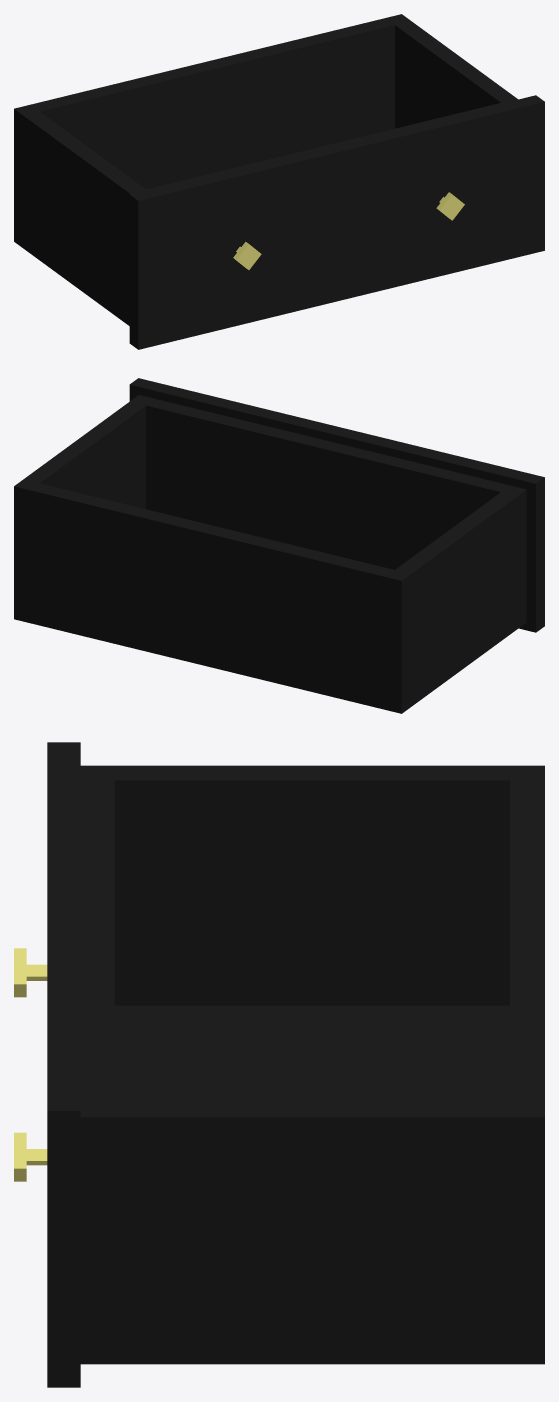
The model's file is Itr_Wardrobe3_Drawer_03.FBX.
3 renders of one model, top to bottom at view 1: azimuth 30°, elevation 25°; view 2: azimuth 150°, elevation 25°; view 3: azimuth 270°, elevation 25°, orthographic. The views are drawn at different scales.
Parts seen in each view (by area): view 1: Itr_Wardrobe3_Drawer_03; view 2: Itr_Wardrobe3_Drawer_03; view 3: Itr_Wardrobe3_Drawer_03.
Boxes of the visible parts, x1=… form: Itr_Wardrobe3_Drawer_03: x1=14, y1=14, x2=544, y2=349; Itr_Wardrobe3_Drawer_03: x1=14, y1=378, x2=544, y2=713; Itr_Wardrobe3_Drawer_03: x1=14, y1=742, x2=544, y2=1387.
Size of the model in its own units: 40.83 by 14.3 by 24.85.
